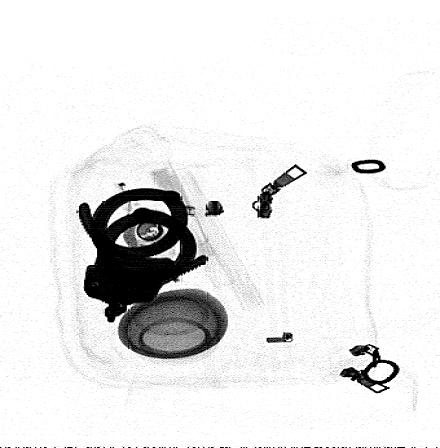HandCuffs: (75, 187, 210, 324)
